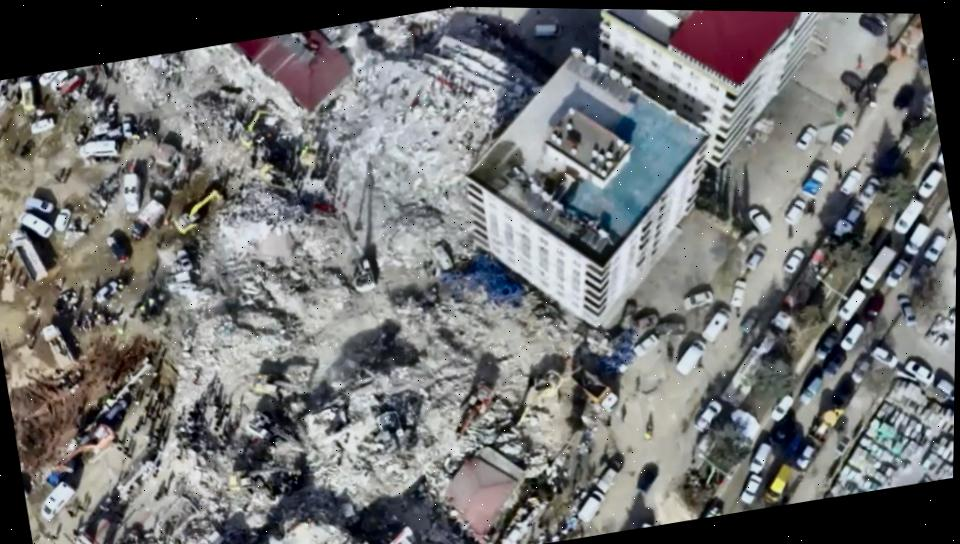kapali: (88, 7, 574, 417)
